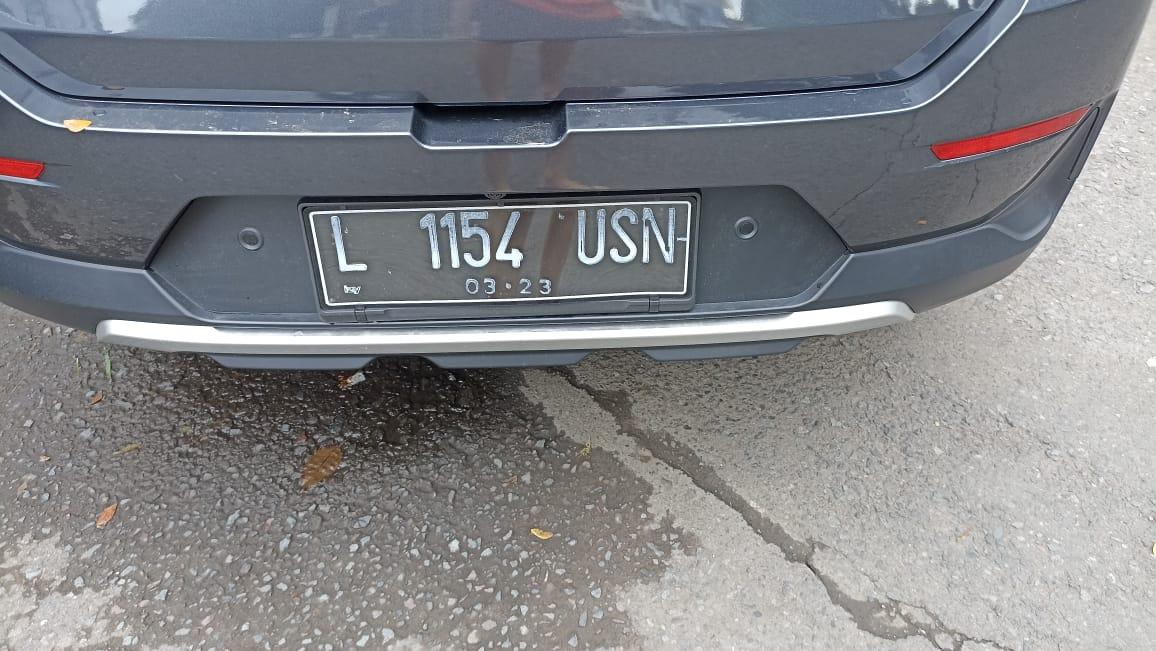plat: (305, 196, 698, 307)
